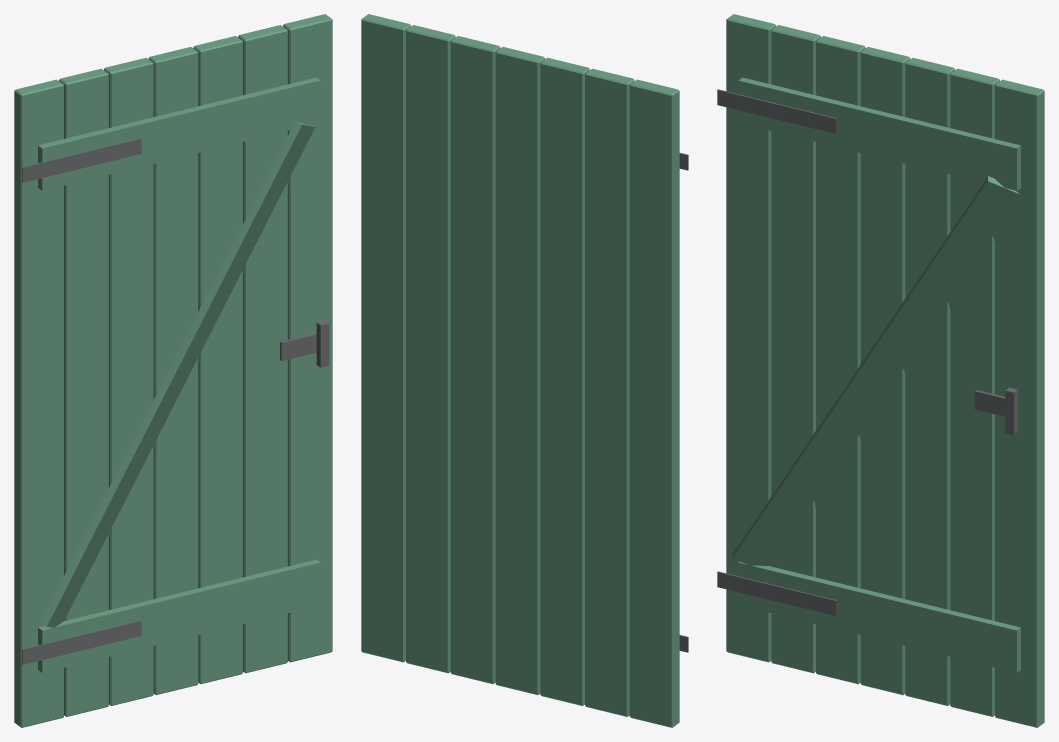
The model's file is door_shed.glb.
3 views of the same model, side by side, from view 1: azimuth 30°, elevation 25°; view 2: azimuth 150°, elevation 25°; view 3: azimuth 330°, elevation 25° (orthographic).
Parts seen in each view (by area): view 1: door_shed_door_g, door_shed_iron; view 2: door_shed_door_g; view 3: door_shed_door_g, door_shed_iron.
Boxes of the visible parts, x1,y1,x2,y2 form: door_shed_door_g: [14, 14, 332, 727]; door_shed_iron: [22, 138, 329, 664]; door_shed_door_g: [361, 14, 679, 727]; door_shed_door_g: [726, 14, 1044, 727]; door_shed_iron: [717, 89, 1017, 615].
Bounding box in the file's own units: 1.09 × 2.09 × 0.105.
